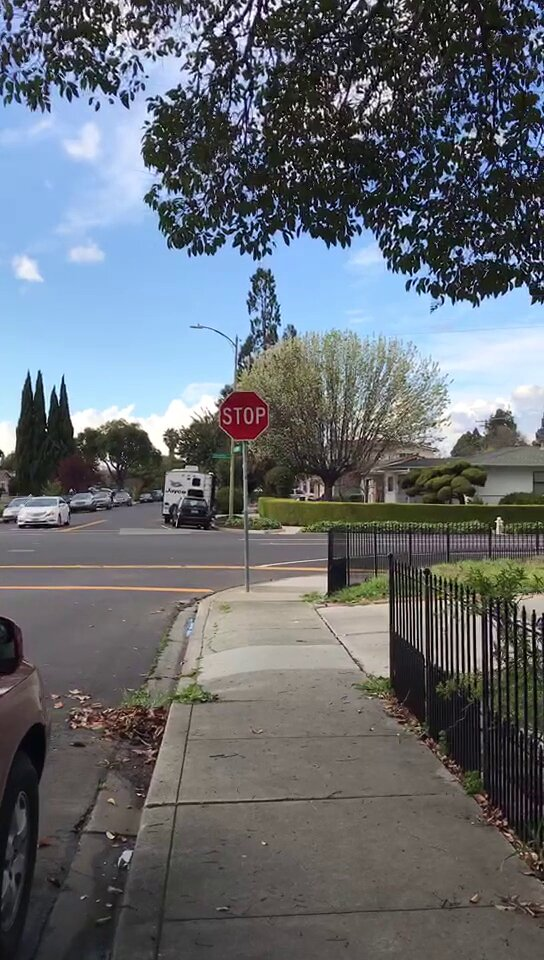stop_sign: (219, 392, 270, 439)
